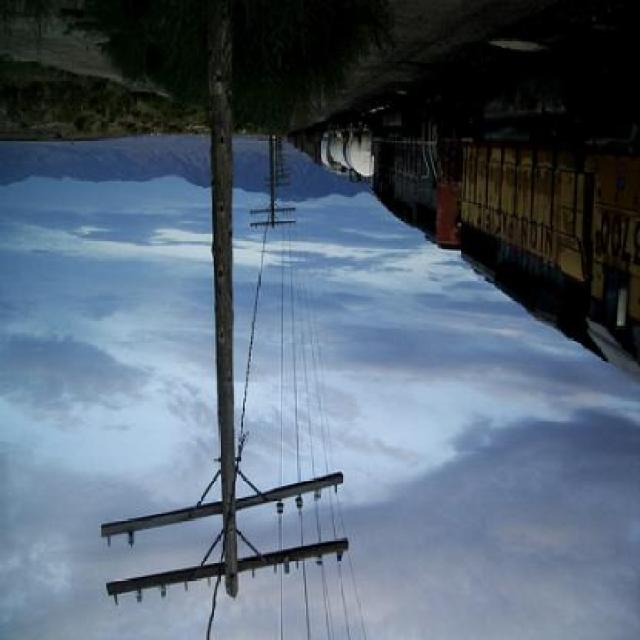pole: (123, 24, 360, 576), (244, 122, 305, 240)
